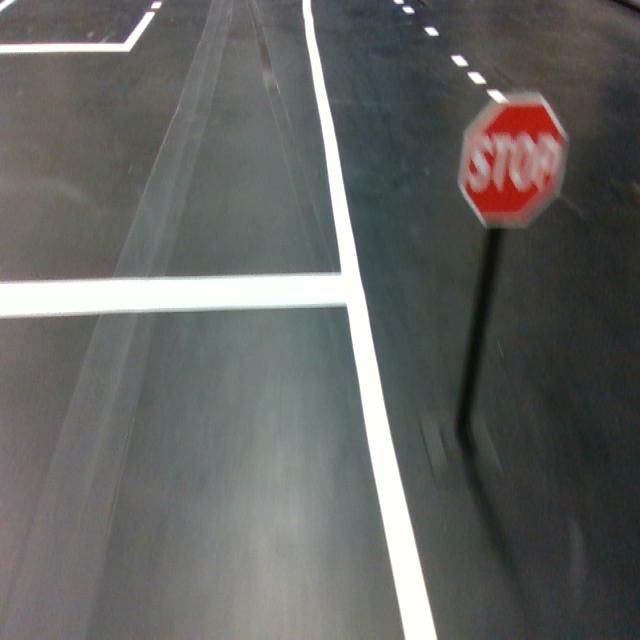stop-sign: (457, 90, 570, 229)
